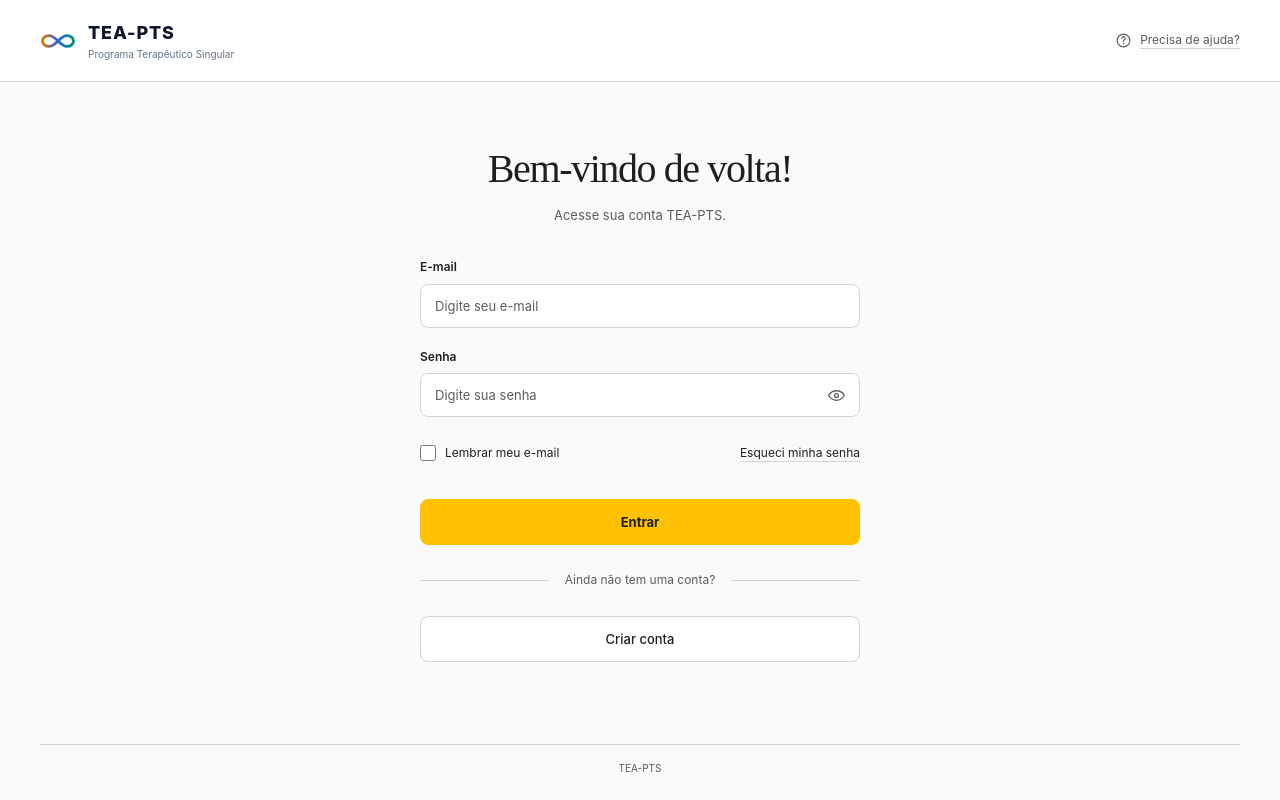
Test: LoginPage › shows a generic message for wrong credentials
Type "teste@teapts.local" into the field labelled "E-mail" at (640, 306), box [420, 284, 860, 328]
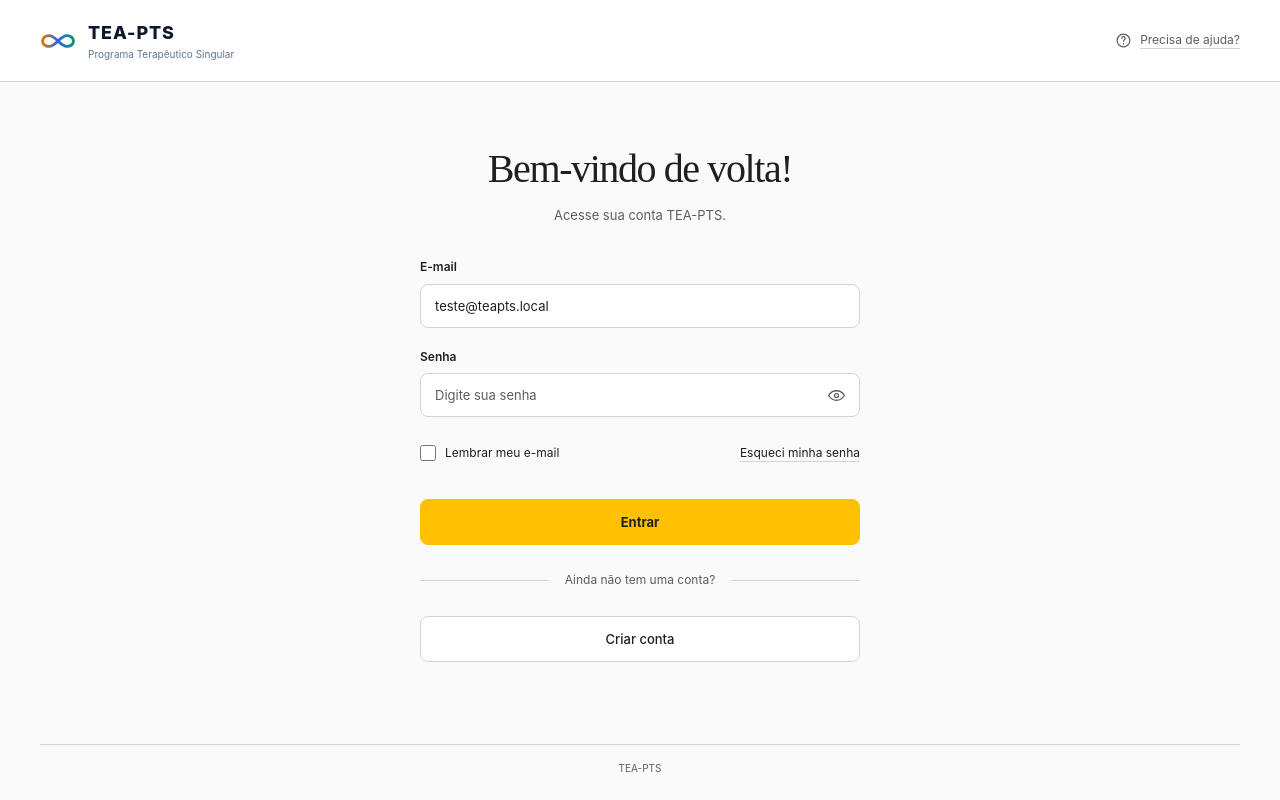
Type "senha-errada" into the password field labelled "Senha" at (640, 396), box [420, 374, 860, 418]
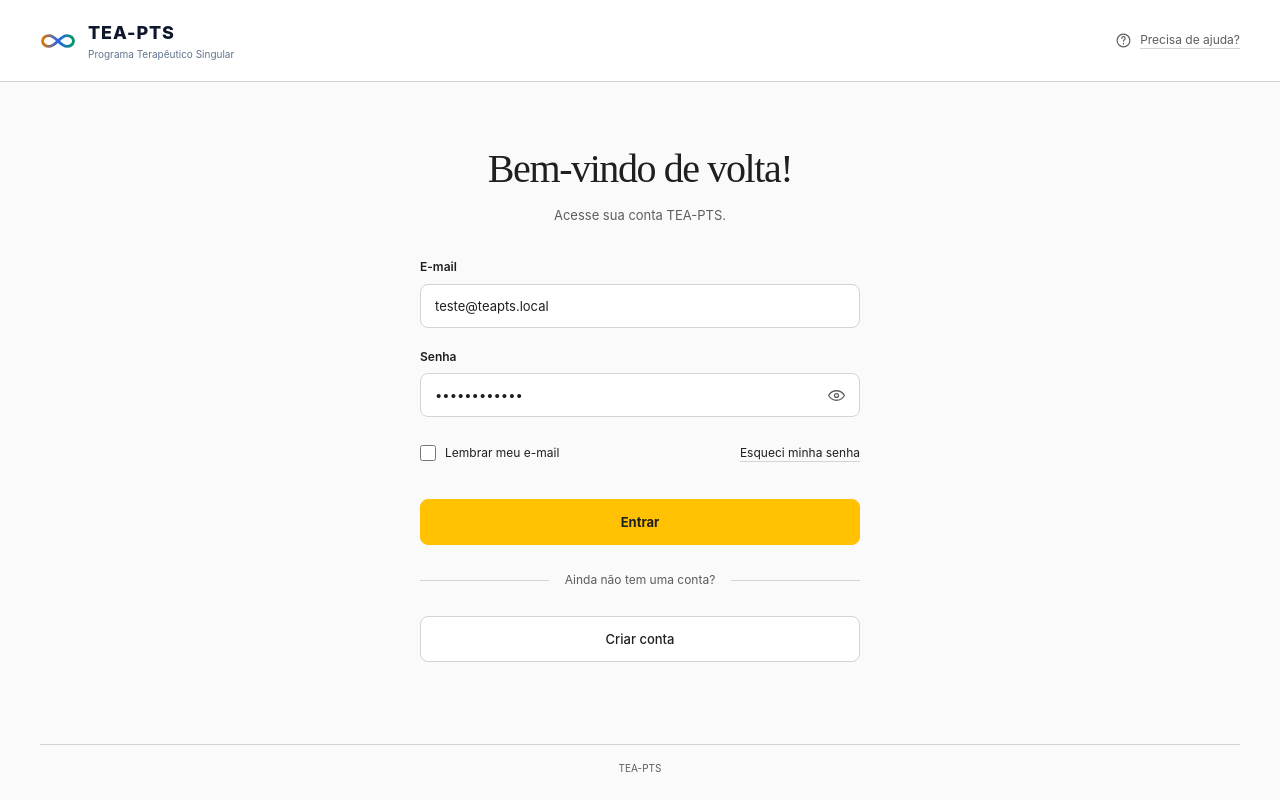
Click the button "Entrar" at (640, 522), box [420, 500, 860, 546]
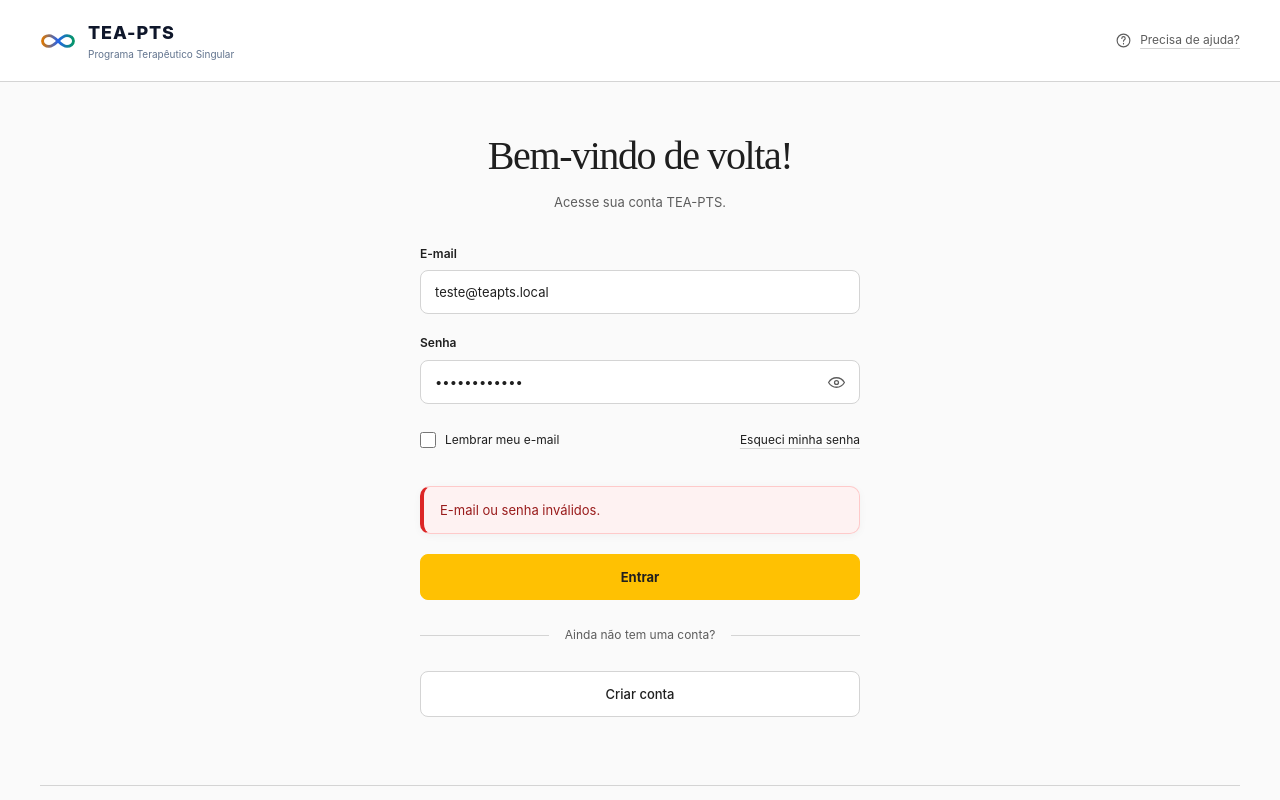
Check: the text "E-mail ou senha inválidos." is shown, box [440, 501, 600, 519]
